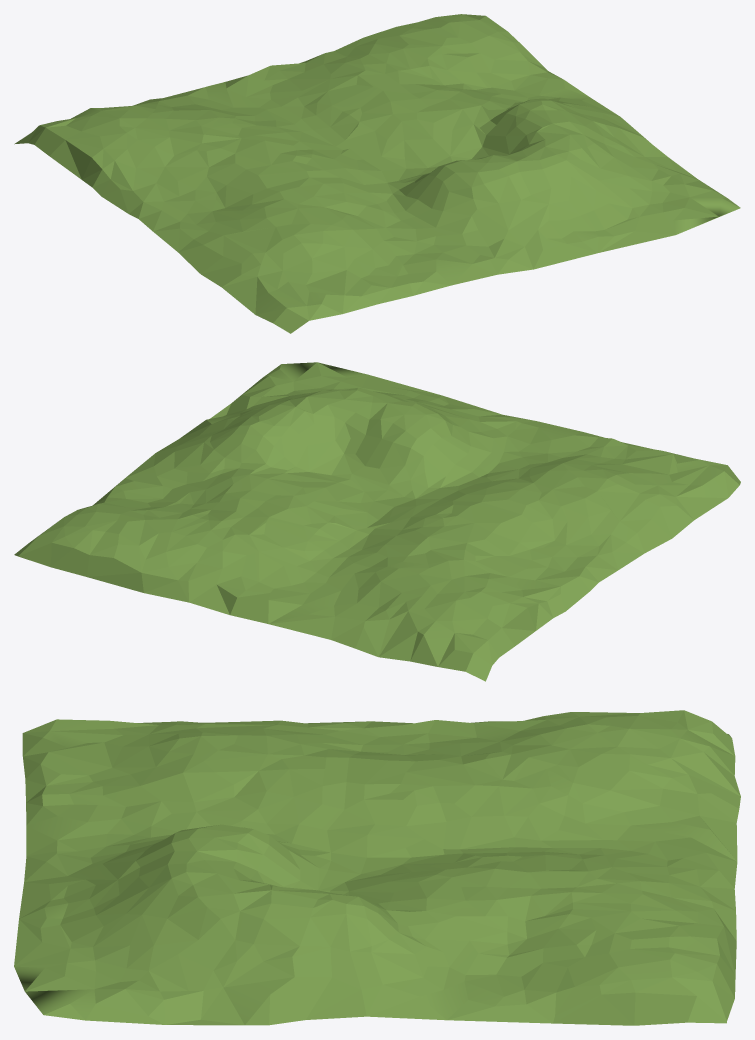
The model's file is Terrain_2.fbx.
The picture shows the model from 3 angles, top to bottom: view 1: azimuth 30°, elevation 25°; view 2: azimuth 150°, elevation 25°; view 3: azimuth 270°, elevation 25°; orthographic projection. The views are drawn at different scales.
Visible parts, largest first — view 1: Terrain_2; view 2: Terrain_2; view 3: Terrain_2.
Boxes of the visible parts, bbox=[...] form: Terrain_2: bbox=[14, 14, 740, 333]; Terrain_2: bbox=[14, 362, 740, 681]; Terrain_2: bbox=[14, 710, 740, 1025].
Size of what is drawn, in the model's own units: 2058 by 245 by 2079.
